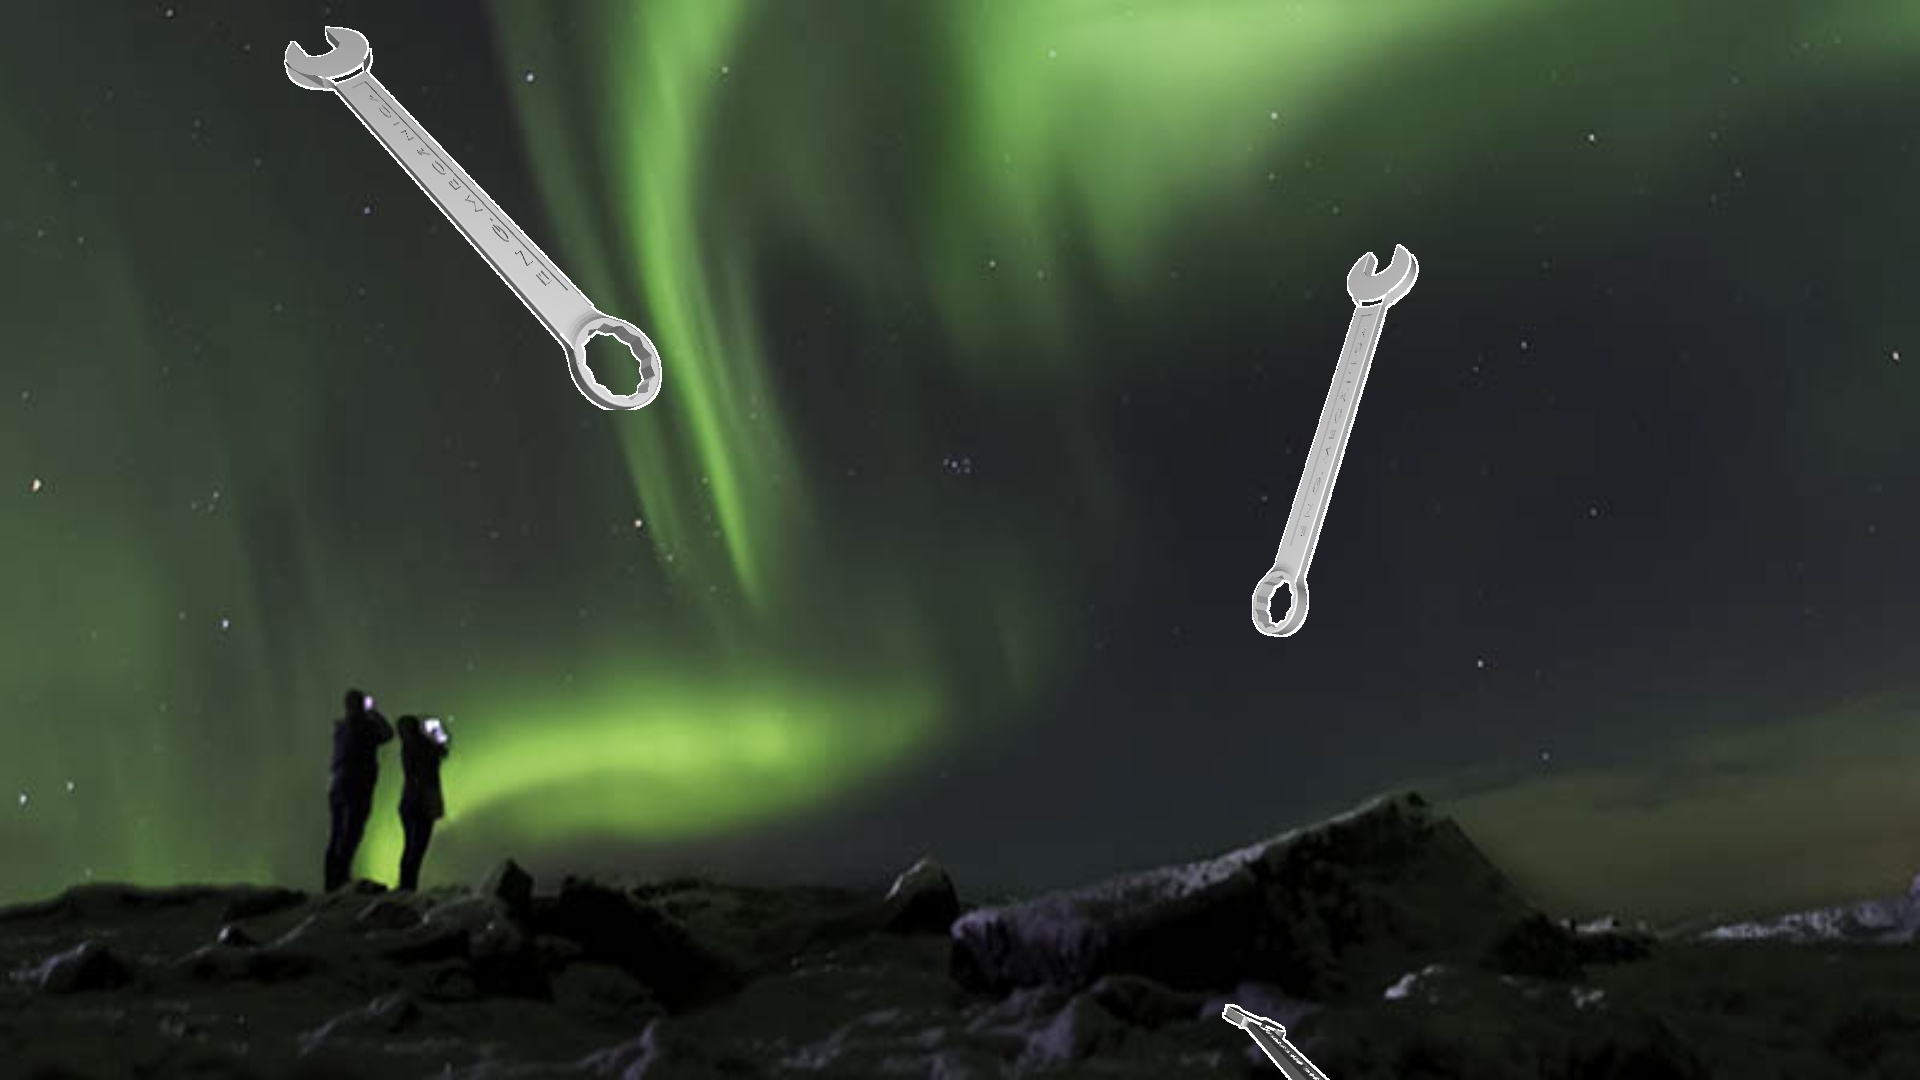Mixed Key: (284, 26, 661, 409), (1251, 244, 1418, 636), (1222, 1004, 1329, 1079)
